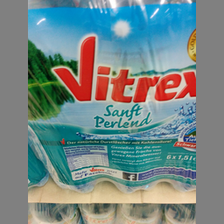water: (27, 1, 196, 193)
